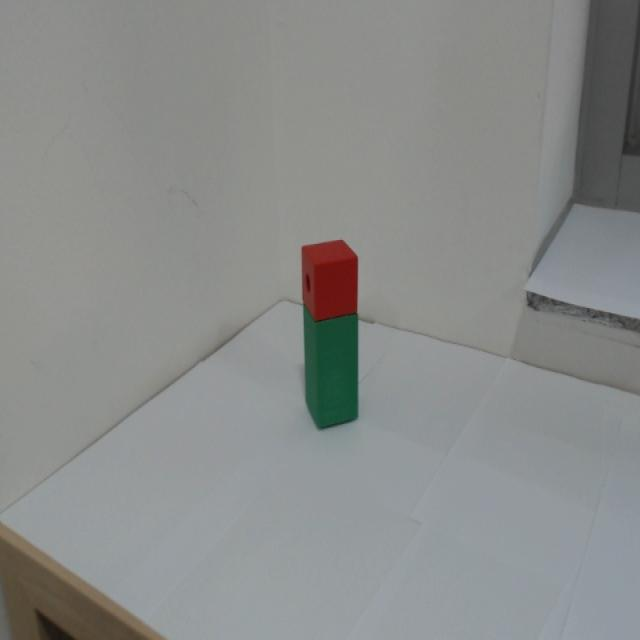cube: (290, 230, 365, 325)
